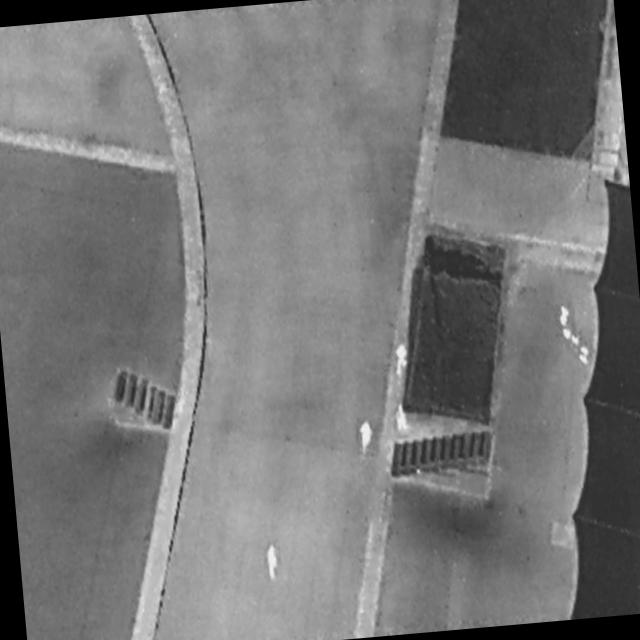person: (356, 416, 377, 458), (394, 344, 411, 379), (265, 543, 280, 580), (396, 402, 408, 432)
